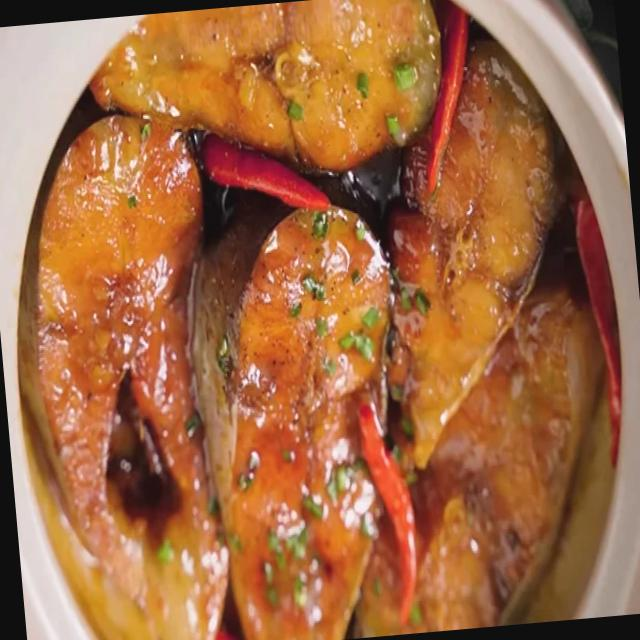ca kho: (33, 0, 582, 640)
